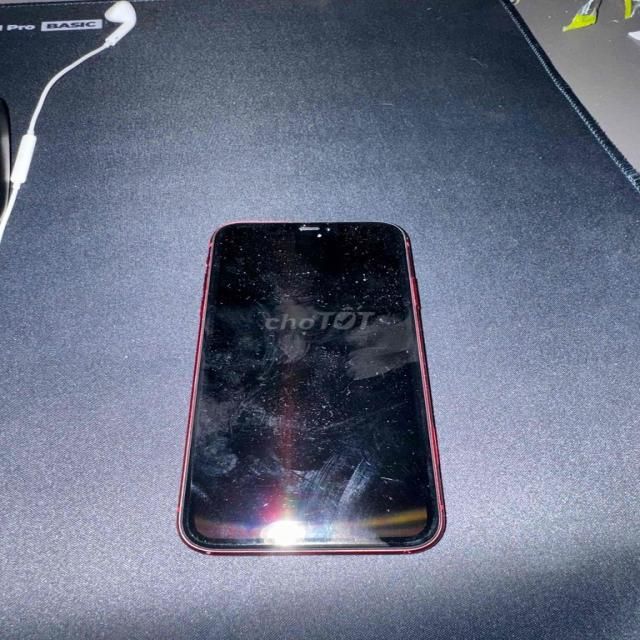scratch: (190, 443, 424, 538), (204, 362, 418, 446), (209, 296, 405, 358), (216, 241, 389, 291), (225, 218, 392, 234)
